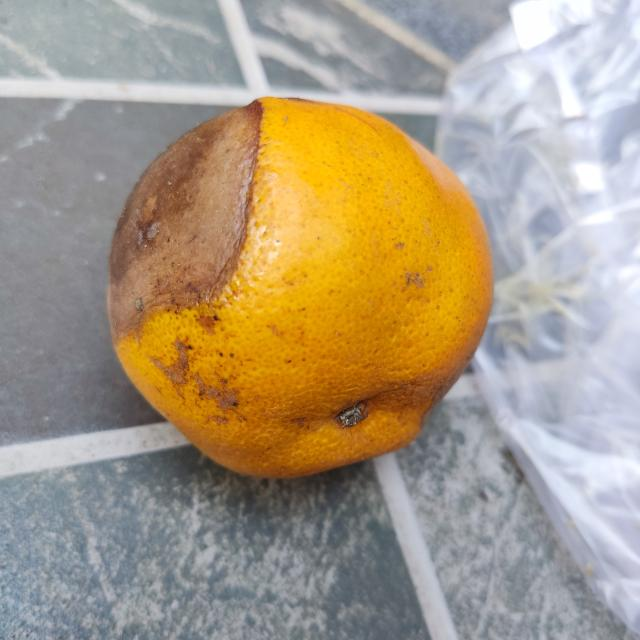orange: (105, 93, 497, 484)
